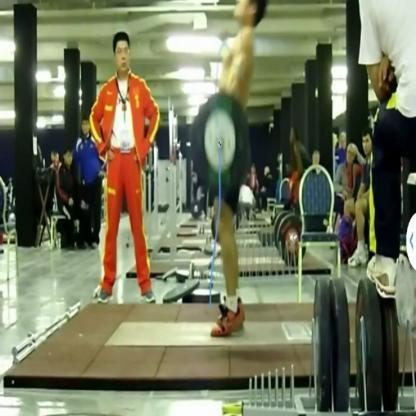barbell: (190, 94, 250, 195)
